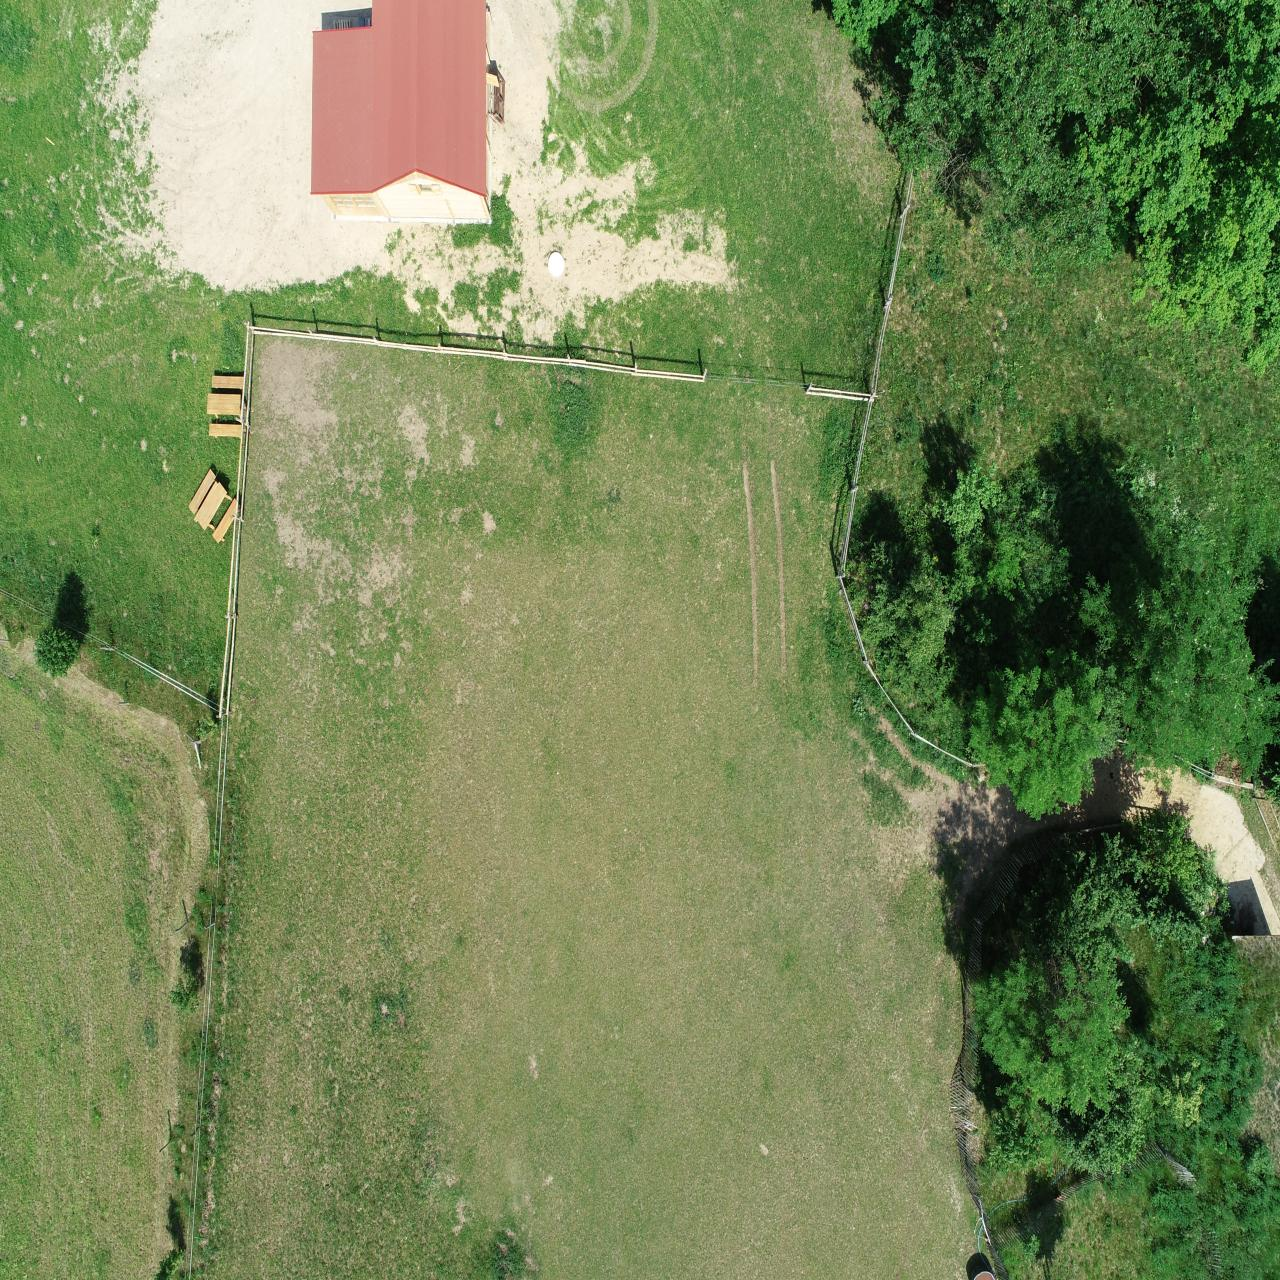cow: (782, 451, 821, 490), (928, 0, 952, 63), (779, 45, 799, 109), (822, 307, 862, 338), (608, 43, 635, 87), (935, 113, 960, 158), (865, 1, 880, 72), (640, 27, 665, 68), (715, 374, 736, 417)
